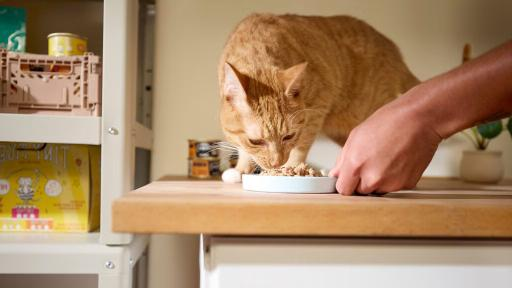cat_eating: (218, 14, 420, 192)
